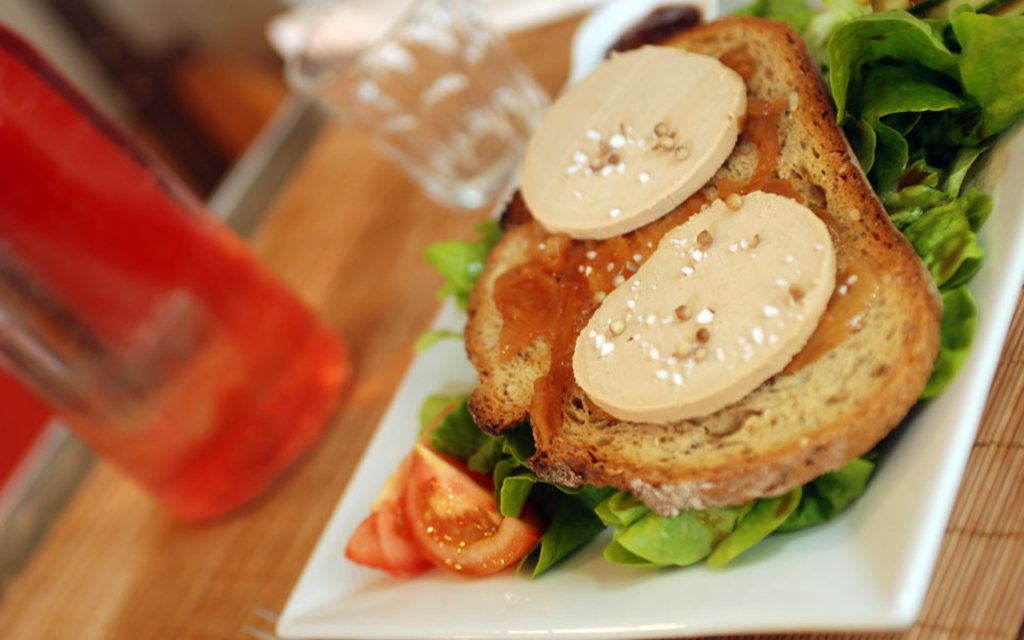sandwich: (465, 20, 950, 508)
